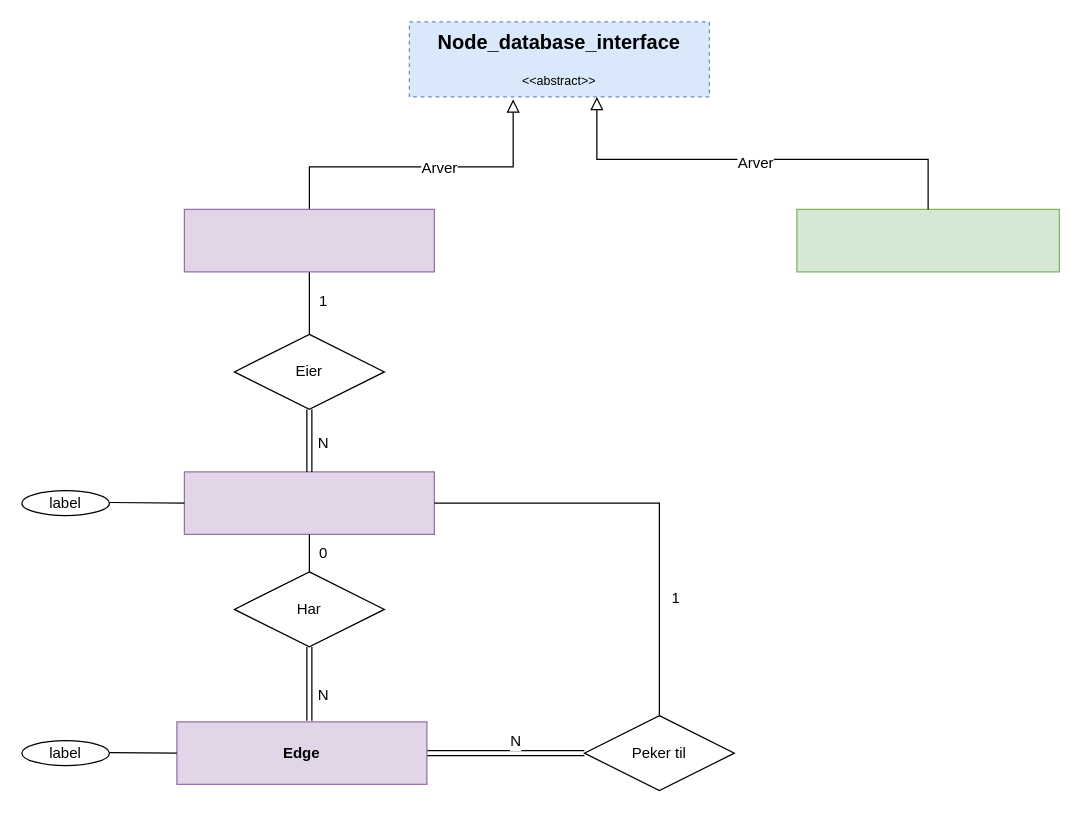
Image size: 1081x813. Some labels were removed from this diagram. The centre of each missing label's shape, as x and y in pixels:
"Graph" belongs at pixel 308 240.
"Matrix" belongs at pixel 927 240.
"Node" belongs at pixel 308 502.
